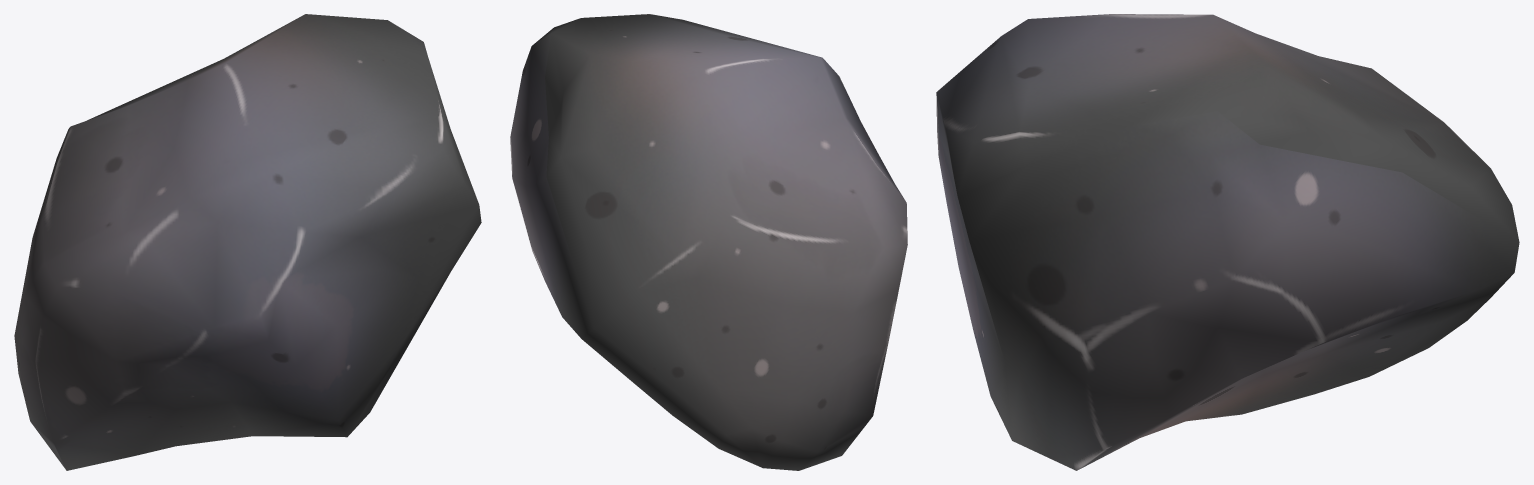
The model's file is rock2.fbx.
3 views of the same model, side by side, from view 1: azimuth 30°, elevation 25°; view 2: azimuth 150°, elevation 25°; view 3: azimuth 270°, elevation 25° (orthographic). The views are drawn at different scales.
Visible parts, largest first — view 1: rock2; view 2: rock2; view 3: rock2.
Part boxes in pixels (x1=…): rock2: x1=14, y1=14, x2=481, y2=470; rock2: x1=510, y1=14, x2=907, y2=470; rock2: x1=936, y1=14, x2=1519, y2=470.
Bounding box in the file's own units: 186 × 172 × 190.
